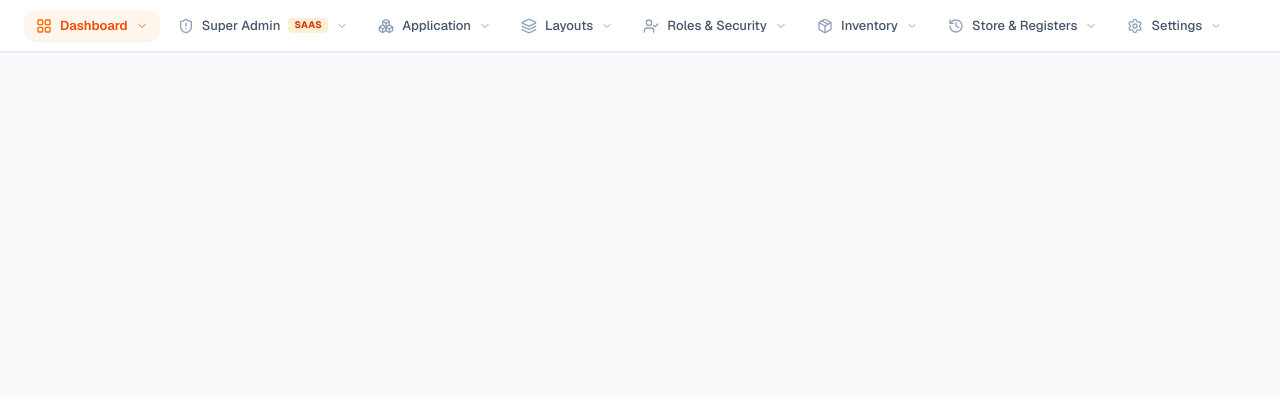
Test case: HorizontalNav Component › opens dropdown for Super Admin and shows SaaS subitems
What coordinates should you click on to do the following:
click the button "Super Admin SaaS"
I would click on:
 (263, 26)
Its box is [166, 10, 360, 41].
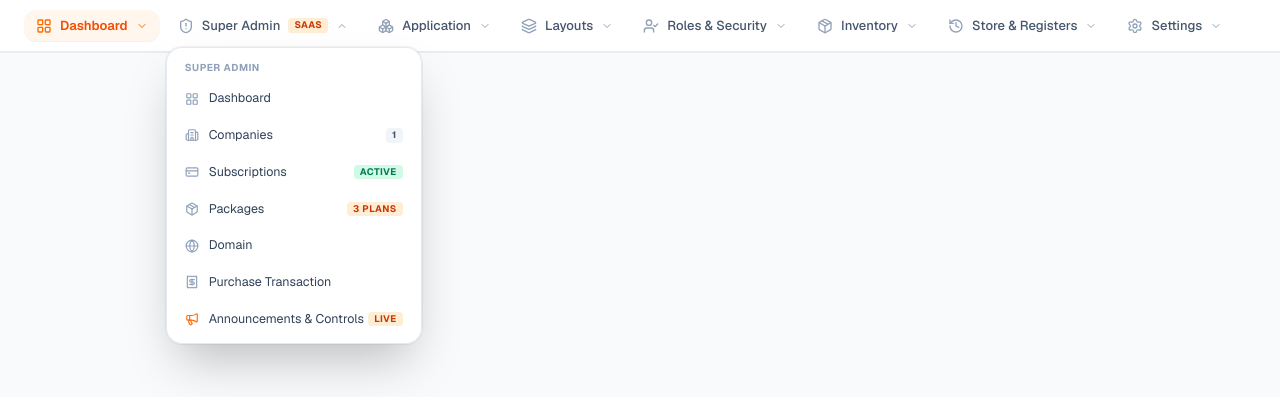
expect the text "Companies" is shown: met, box [209, 126, 273, 145]
expect the text "Subscriptions" is shown: met, box [209, 163, 287, 182]
expect the text "Packages" is shown: met, box [209, 200, 264, 218]
